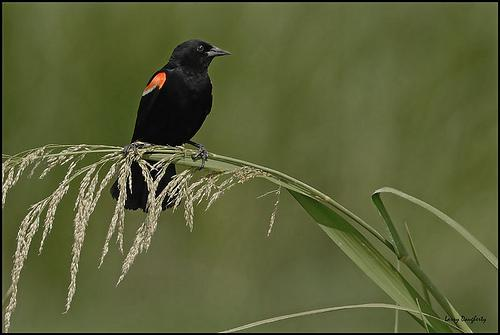010.Red_winged_Blackbird: (110, 39, 228, 215)
